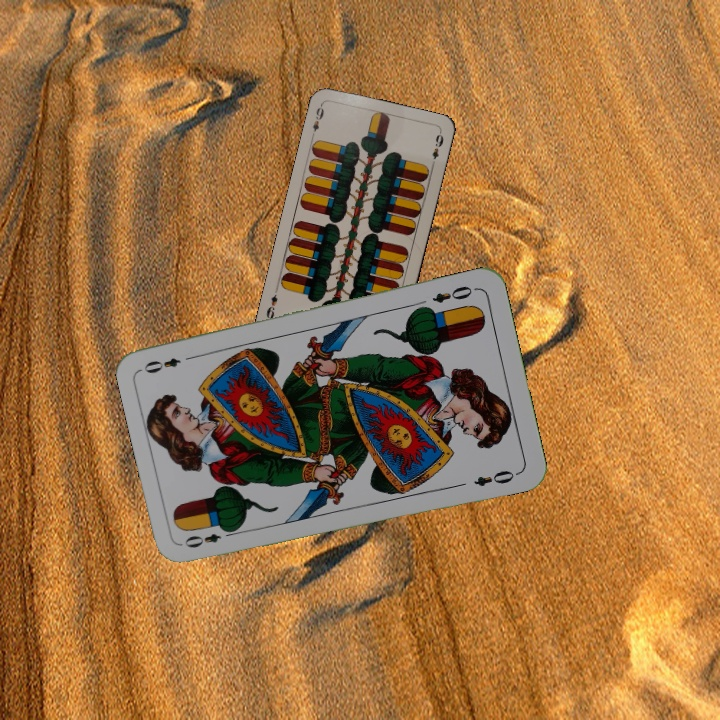E9: (308, 100, 327, 140)
EO: (180, 524, 238, 551), (428, 282, 480, 306)
